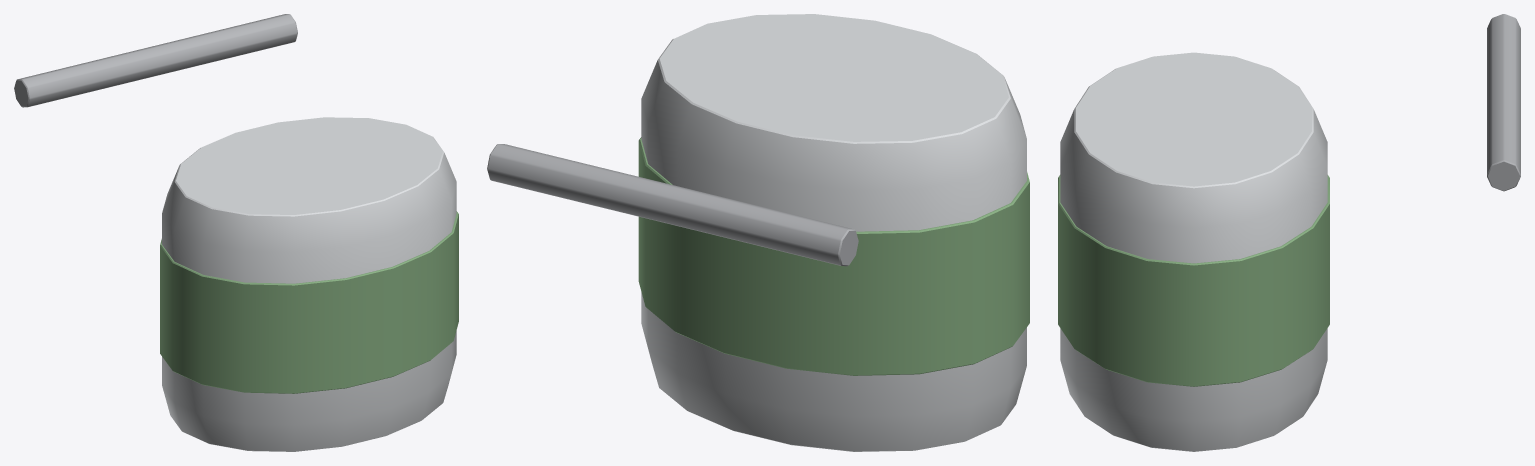
The model's file is IT_can_tuna.fbx.
The picture shows the model from 3 angles, left to right: view 1: azimuth 30°, elevation 25°; view 2: azimuth 150°, elevation 25°; view 3: azimuth 270°, elevation 25°; orthographic projection. The views are drawn at different scales.
Visible parts, largest first — view 1: IT_can_tuna; view 2: IT_can_tuna; view 3: IT_can_tuna.
Boxes of the visible parts, box(x1,y1,x2,y2) form: IT_can_tuna: box(14, 14, 458, 451); IT_can_tuna: box(487, 14, 1029, 451); IT_can_tuna: box(1058, 14, 1520, 451).
Bounding box in the file's own units: 0.3825 × 0.3275 × 0.4779.
